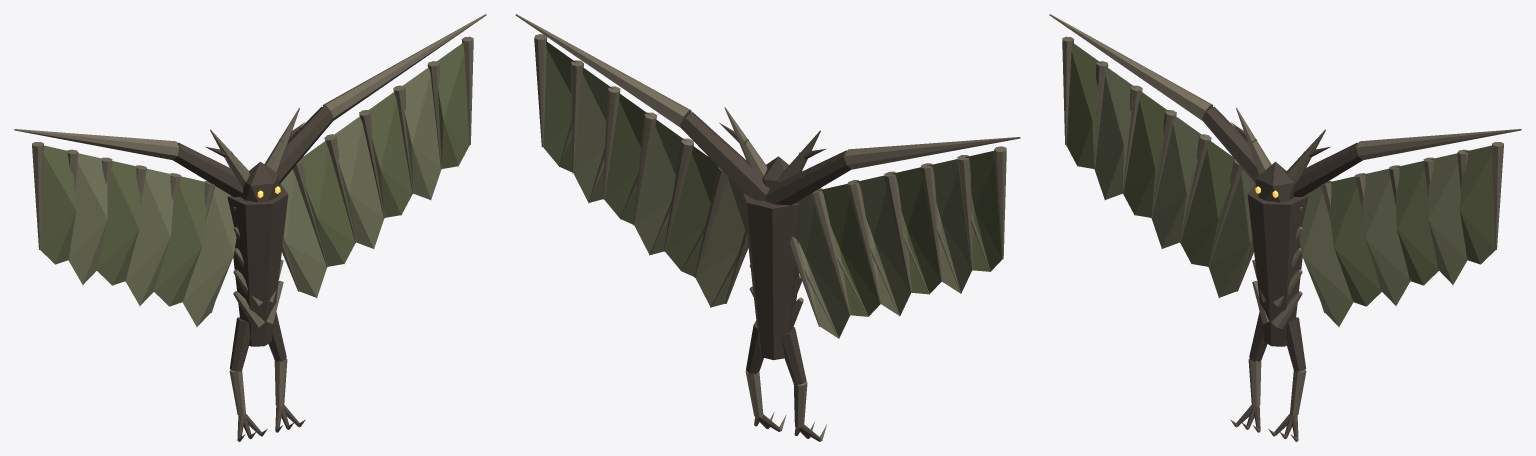
The model's file is barkwing-reference.glb.
The picture shows the model from 3 angles, left to right: view 1: azimuth 30°, elevation 25°; view 2: azimuth 150°, elevation 25°; view 3: azimuth 330°, elevation 25°; orthographic projection. The views are drawn at different scales.
Parts seen in each view (by area): view 1: Narrow tapered torso, Left ragged membrane 2, Left ragged membrane 1, Left ragged membrane 0, Right ragged membrane 2, Right ragged membrane 1, Left ragged membrane 3, Left ragged membrane 4, Right ragged membrane 4, Right ragged membrane 3, Left ragged membrane 5, Right ragged membrane 5 (+19 smaller); view 2: Narrow tapered torso, Left ragged membrane 2, Right ragged membrane 2, Left ragged membrane 1, Right ragged membrane 1, Right ragged membrane 0, Left ragged membrane 0, Left ragged membrane 4, Left ragged membrane 3, Right ragged membrane 4, Right ragged membrane 3, Left ragged membrane 5 (+25 smaller); view 3: Narrow tapered torso, Right ragged membrane 2, Right ragged membrane 1, Right ragged membrane 0, Left ragged membrane 2, Left ragged membrane 1, Right ragged membrane 3, Right ragged membrane 4, Left ragged membrane 4, Left ragged membrane 3, Right ragged membrane 5, Left ragged membrane 5 (+19 smaller).
Boxes of the visible parts, x1,y1,x2,y2 form: Narrow tapered torso: [227, 184, 288, 346]; Left ragged membrane 2: [126, 168, 174, 305]; Left ragged membrane 1: [154, 176, 209, 306]; Left ragged membrane 0: [183, 186, 236, 326]; Right ragged membrane 2: [331, 116, 384, 248]; Right ragged membrane 1: [301, 141, 355, 266]; Left ragged membrane 3: [97, 161, 140, 285]; Left ragged membrane 4: [68, 153, 107, 284]; Right ragged membrane 4: [400, 67, 441, 199]; Right ragged membrane 3: [365, 92, 412, 217]; Left ragged membrane 5: [40, 145, 76, 264]; Right ragged membrane 5: [434, 43, 469, 168]; Narrow tapered torso: [742, 192, 800, 360]; Left ragged membrane 2: [855, 175, 910, 315]; Right ragged membrane 2: [635, 120, 686, 254]; Left ragged membrane 1: [818, 184, 879, 316]; Right ragged membrane 1: [665, 146, 718, 276]; Right ragged membrane 0: [695, 178, 748, 307]; Left ragged membrane 0: [795, 194, 849, 337]; Left ragged membrane 4: [927, 159, 971, 292]; Left ragged membrane 3: [890, 167, 940, 294]; Right ragged membrane 4: [573, 67, 612, 202]; Right ragged membrane 3: [604, 94, 650, 224]; Left ragged membrane 5: [964, 151, 1001, 271]; Narrow tapered torso: [1247, 184, 1308, 346]; Right ragged membrane 2: [1361, 168, 1409, 305]; Right ragged membrane 1: [1326, 176, 1381, 306]; Right ragged membrane 0: [1299, 186, 1352, 326]; Left ragged membrane 2: [1151, 116, 1204, 248]; Left ragged membrane 1: [1180, 141, 1234, 266]; Right ragged membrane 3: [1395, 161, 1438, 285]; Right ragged membrane 4: [1428, 153, 1467, 284]; Left ragged membrane 4: [1094, 67, 1135, 199]; Left ragged membrane 3: [1123, 92, 1170, 217]; Right ragged membrane 5: [1459, 145, 1495, 264]; Left ragged membrane 5: [1066, 43, 1101, 168].
Bounding box in the file's own units: 5.49 × 3.87 × 0.6683.
